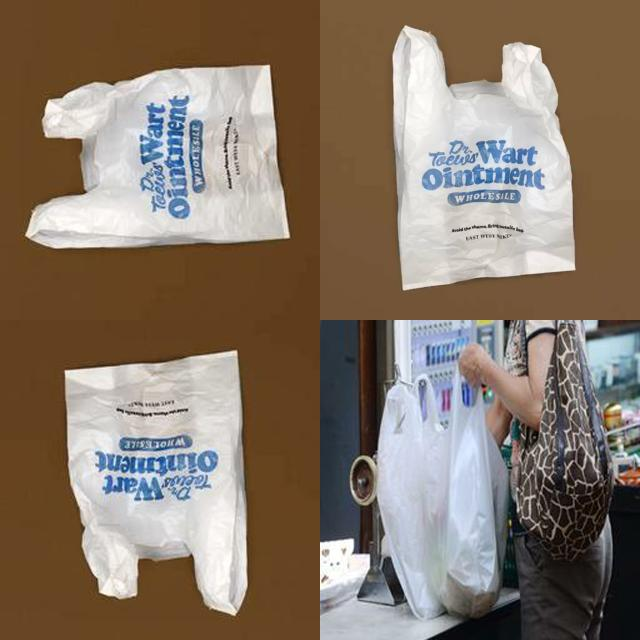Single-layer Plastic: (392, 26, 575, 290), (26, 65, 289, 248), (65, 351, 248, 614), (376, 376, 449, 619), (441, 372, 509, 619)
